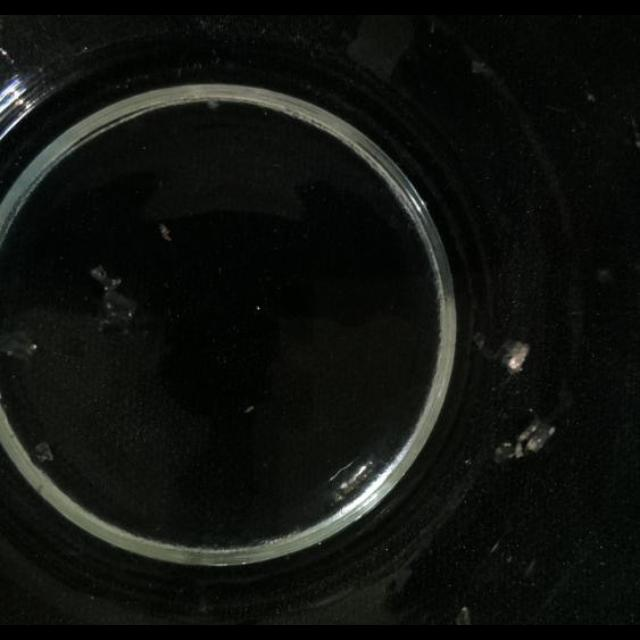Fibre: (90, 264, 138, 332), (496, 414, 556, 462), (475, 333, 527, 373), (2, 332, 42, 363), (472, 59, 496, 79), (34, 441, 54, 463), (454, 606, 470, 624), (585, 91, 595, 102)
microbeads: (158, 223, 172, 241), (245, 405, 255, 413)
